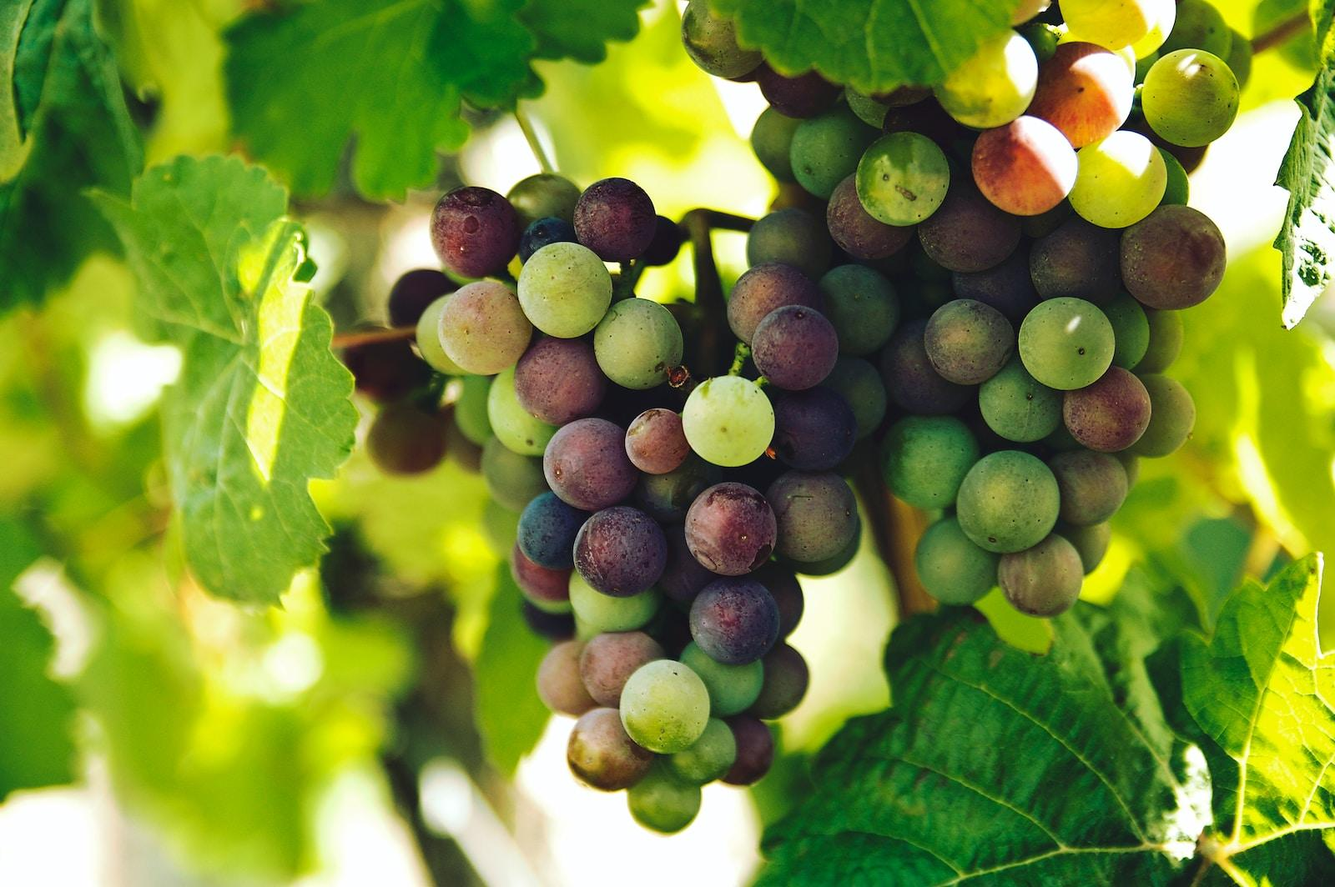Grape Unripe: (718, 0, 1224, 616), (414, 174, 859, 834)
